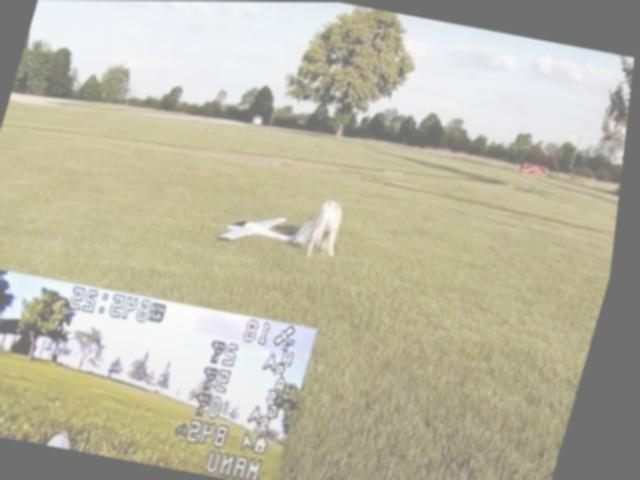iha: (217, 198, 324, 256)
